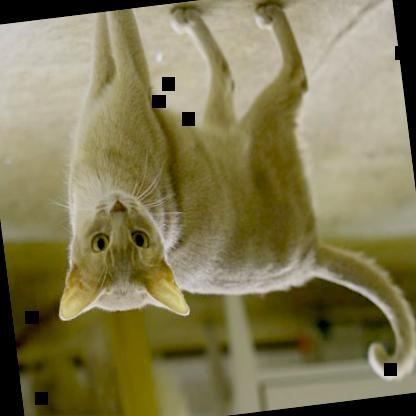cat: (22, 0, 411, 333)
